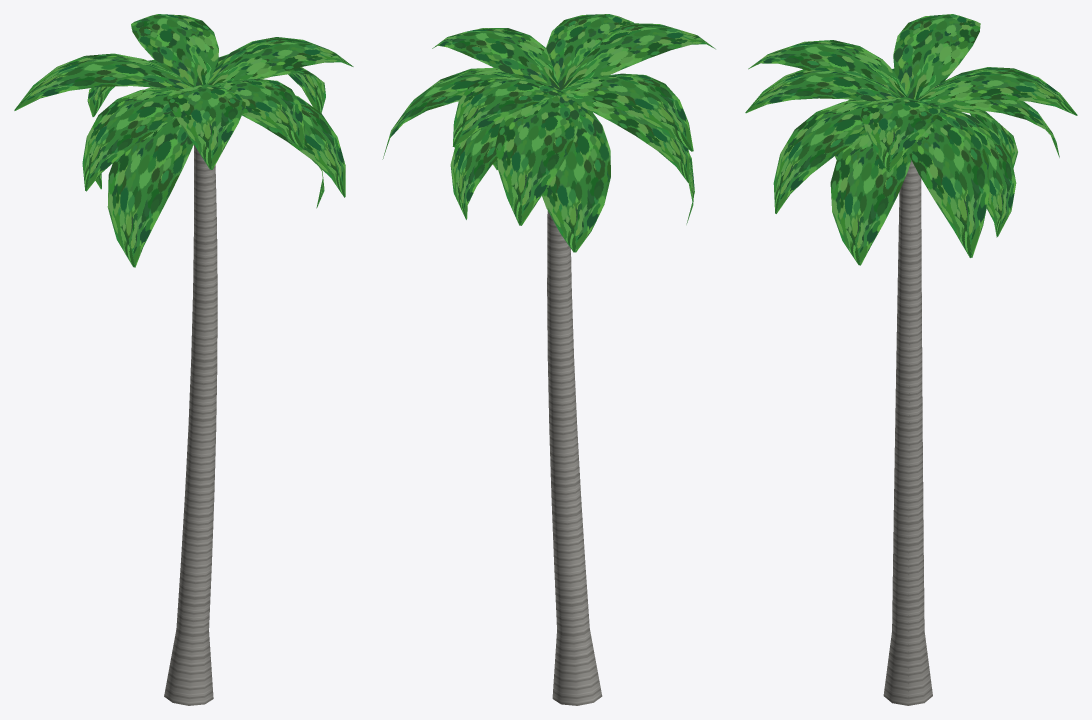
The model's file is tree_royal_palm.glb.
3 views of the same model, side by side, from view 1: azimuth 30°, elevation 25°; view 2: azimuth 150°, elevation 25°; view 3: azimuth 270°, elevation 25° (orthographic).
Visible parts, largest first — view 1: canopy, trunk; view 2: canopy, trunk; view 3: canopy, trunk.
Boxes of the visible parts, <box> form: canopy: <box>14,14,353,267</box>; trunk: <box>164,145,217,705</box>; canopy: <box>382,14,715,252</box>; trunk: <box>547,211,602,705</box>; canopy: <box>745,14,1077,265</box>; trunk: <box>883,160,932,705</box>.
Size of the model in its own units: 6.13 by 12.17 by 5.75.
Materials: 2 (2 with a texture image).
